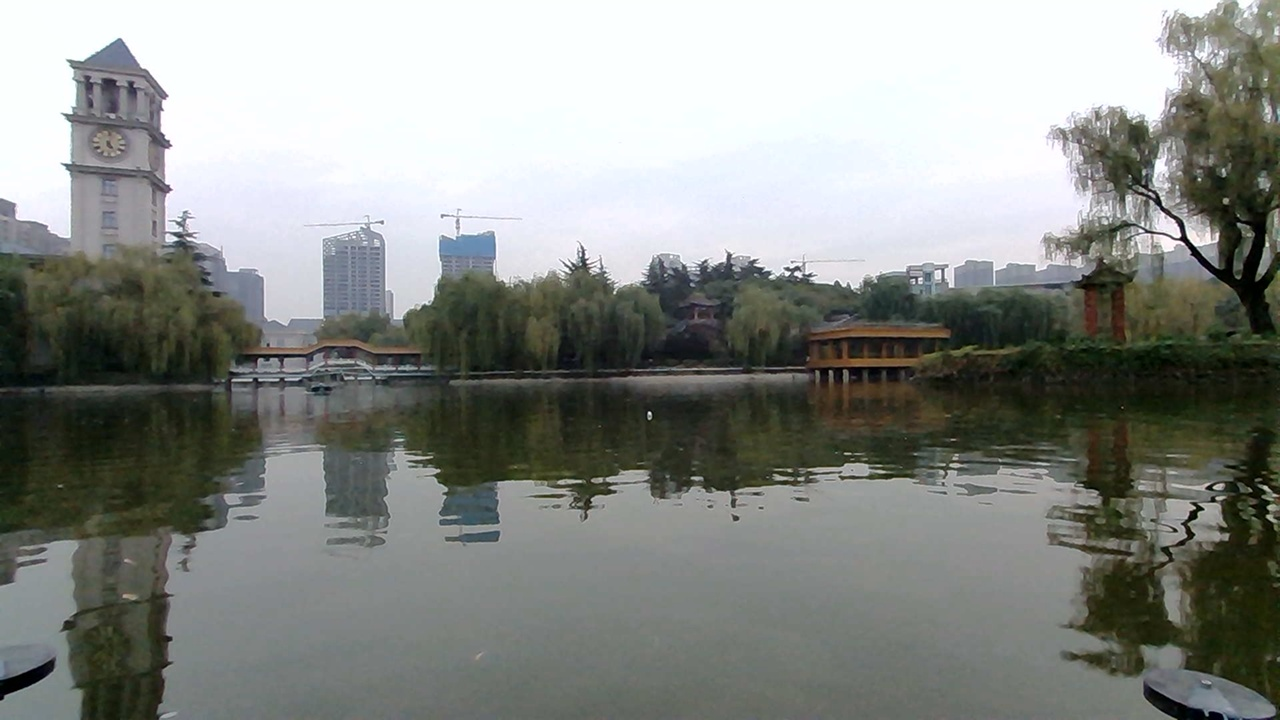bottle: (635, 400, 669, 425)
